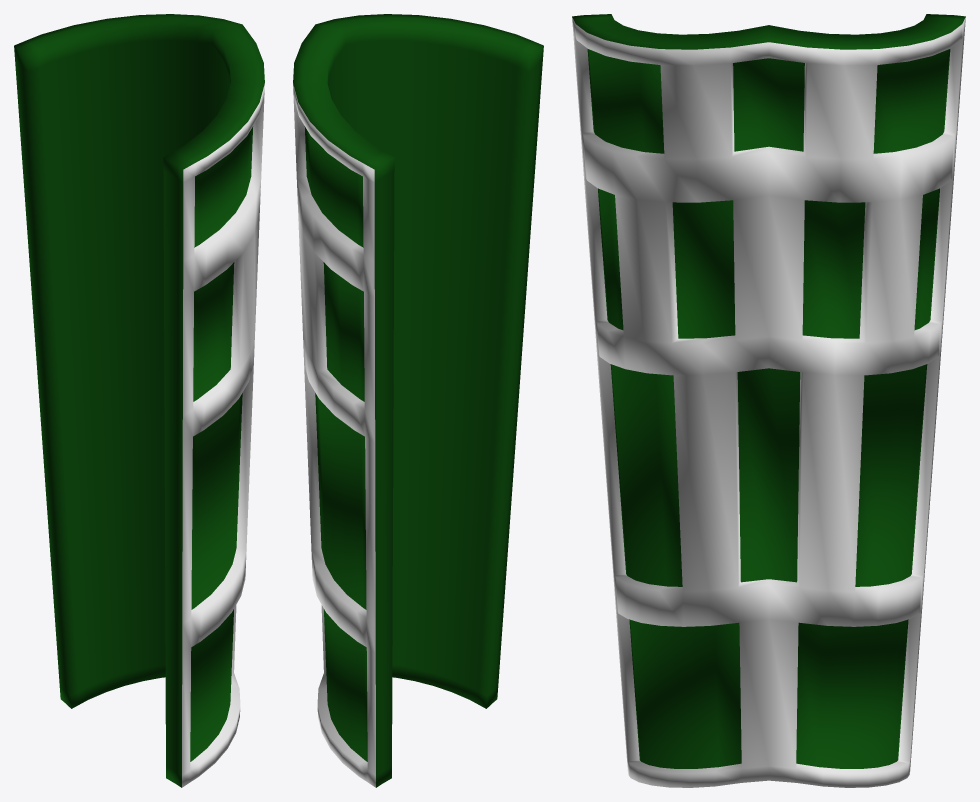
File: grebas.fbx
3 renders of one model, left to right at view 1: azimuth 30°, elevation 25°; view 2: azimuth 150°, elevation 25°; view 3: azimuth 270°, elevation 25°, orthographic. The views are drawn at different scales.
Visible parts, largest first — view 1: Cylinder; view 2: Cylinder; view 3: Cylinder.
Boxes of the visible parts, bbox=[...] form: Cylinder: bbox=[14, 14, 264, 787]; Cylinder: bbox=[293, 14, 543, 787]; Cylinder: bbox=[572, 14, 965, 787].
Bounding box in the file's own units: 7.73 × 34.68 × 15.44.
